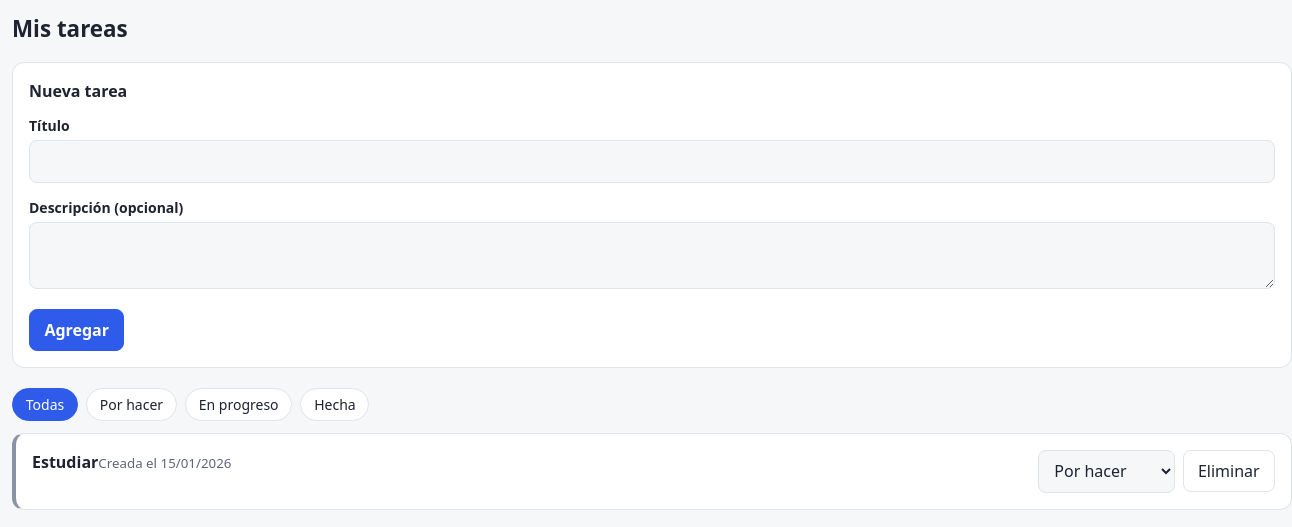
TasksComponent › permite cancelar la eliminación
The image size is (1292, 527).
Click the button "Eliminar": (1229, 471) x1=1182 y1=450 x2=1275 y2=492
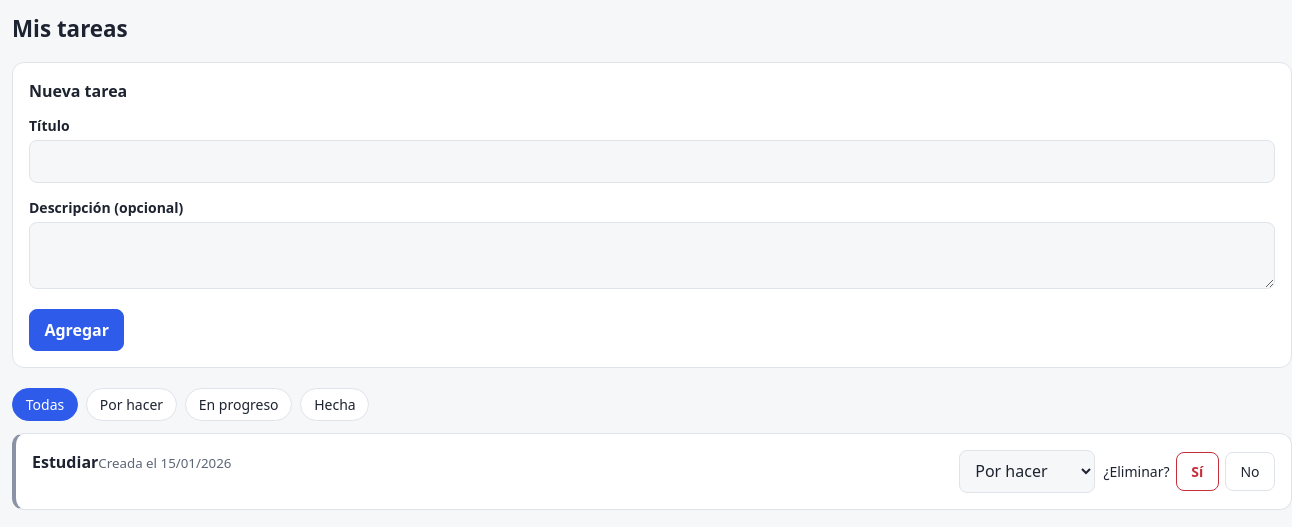
Click the button "No": (1250, 471) x1=1225 y1=452 x2=1275 y2=491
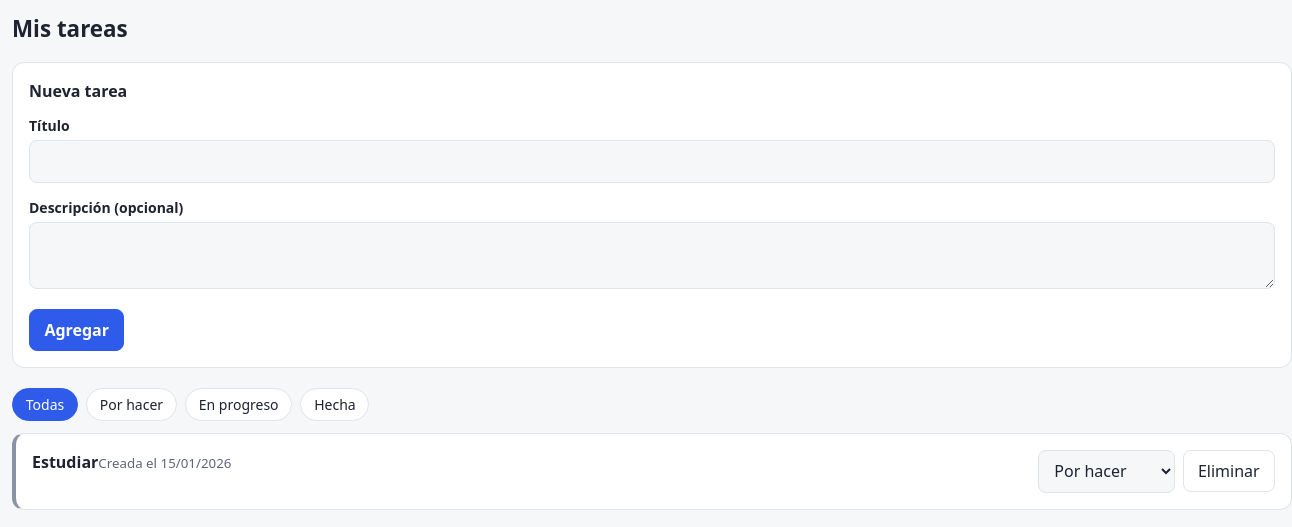
Expected: the text "¿Eliminar?" is gone
